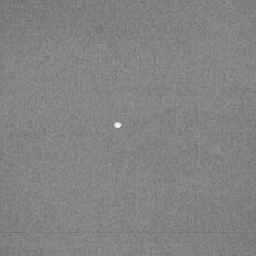Target: (112, 121, 123, 130)
